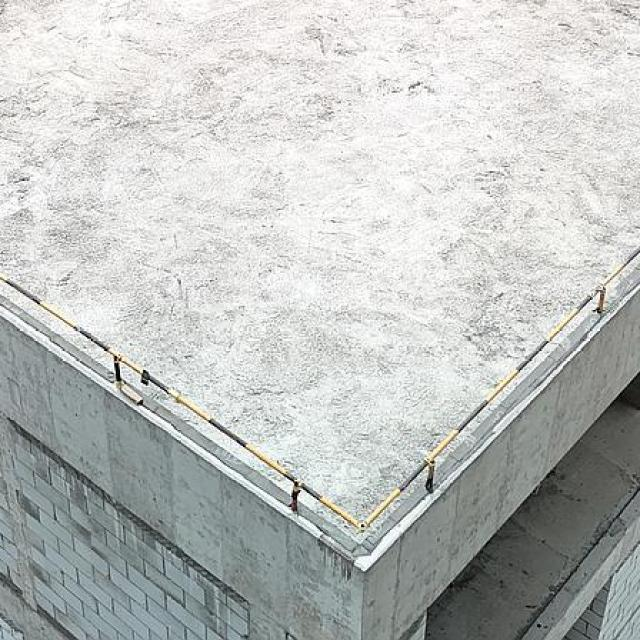edge_guardrail: (0, 247, 640, 533)
